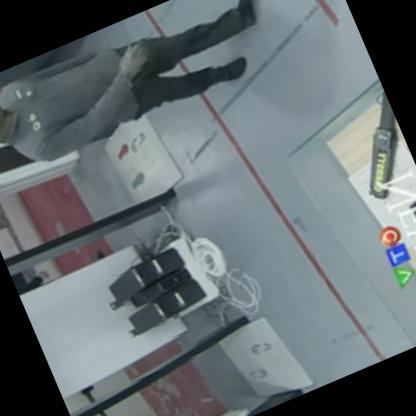Human Body: (0, 0, 293, 201)
